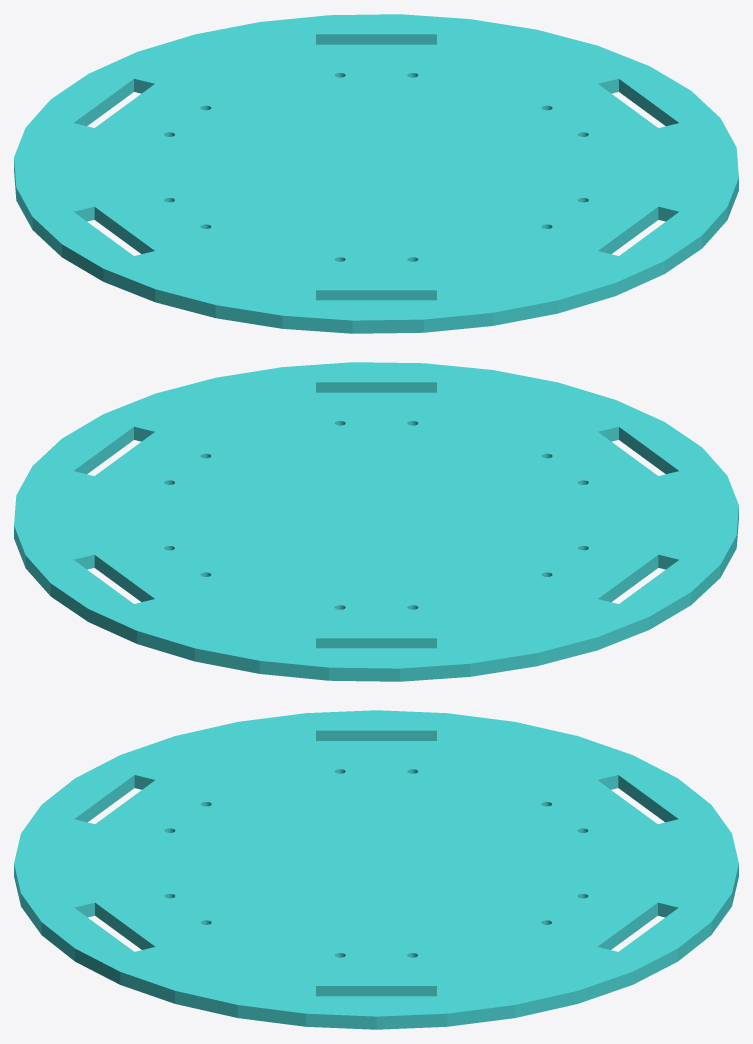
Rendered from upper_plate.dae.
The picture shows the model from 3 angles, top to bottom: view 1: azimuth 30°, elevation 25°; view 2: azimuth 150°, elevation 25°; view 3: azimuth 270°, elevation 25°; orthographic projection.
Visible parts, largest first — view 1: upper_plate; view 2: upper_plate; view 3: upper_plate.
Boxes of the visible parts, bbox=[...] form: upper_plate: bbox=[14, 14, 738, 333]; upper_plate: bbox=[14, 362, 738, 681]; upper_plate: bbox=[14, 710, 738, 1029].
Size of the model in its own units: 0.3 by 0.3 by 0.006.
